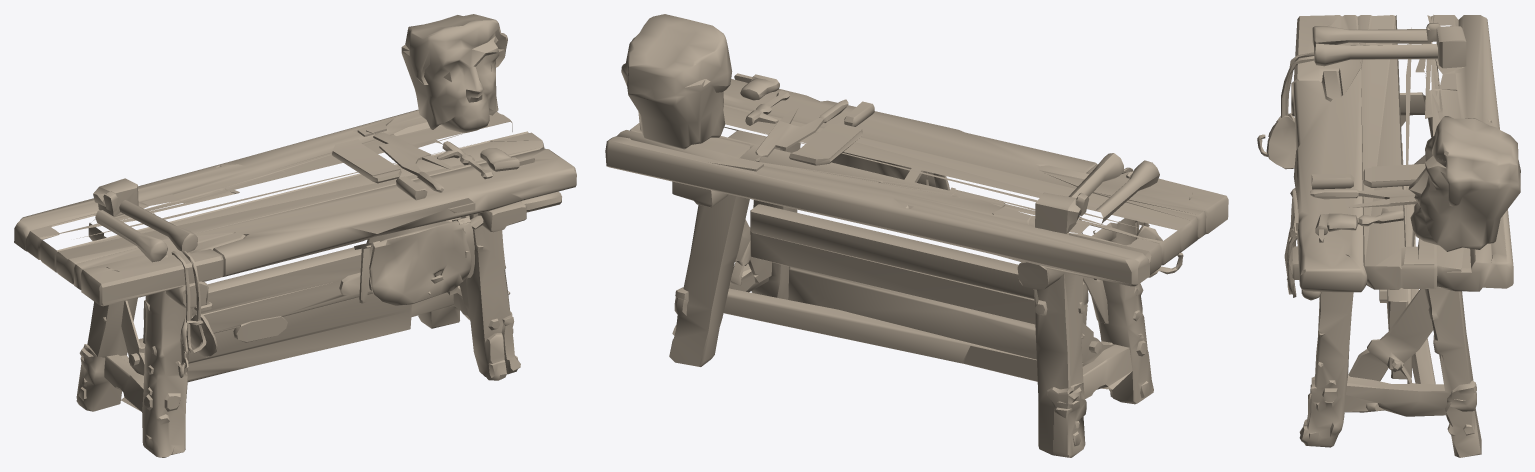
Rendered from kit_workbench.glb.
The picture shows the model from 3 angles, left to right: view 1: azimuth 30°, elevation 25°; view 2: azimuth 150°, elevation 25°; view 3: azimuth 270°, elevation 25°; orthographic projection. The views are drawn at different scales.
Visible parts, largest first — view 1: workbench; view 2: workbench; view 3: workbench.
Part boxes in pixels (box(x1,y1,x2,y2)): workbench: box(14, 14, 576, 457); workbench: box(605, 14, 1228, 457); workbench: box(1257, 14, 1520, 457).
Size of the model in its own units: 1.6 by 0.9625 by 0.7013.
